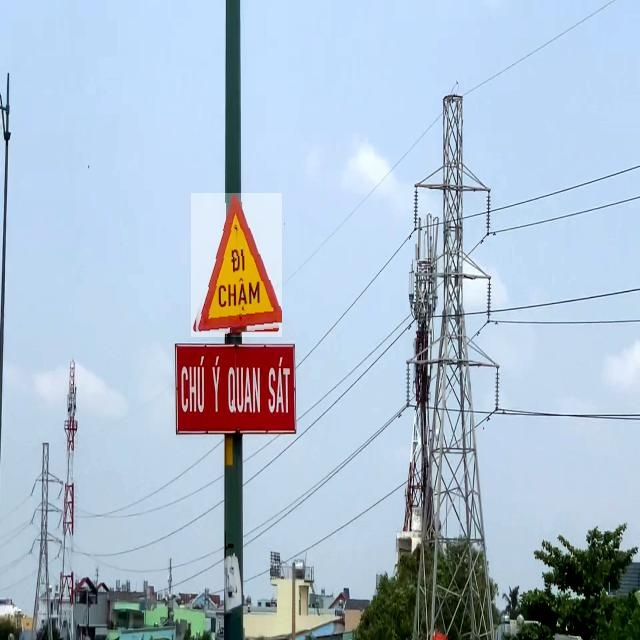bien_nguy_hiem: (191, 193, 282, 337)
